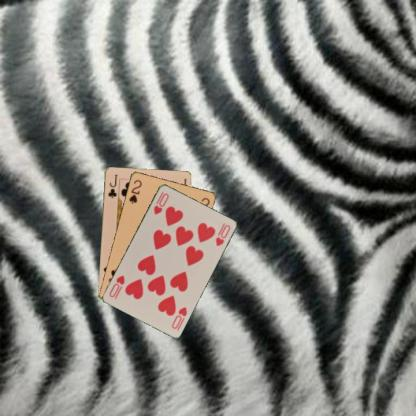10h: (151, 190, 170, 216), (169, 304, 188, 330)
2s: (127, 177, 142, 204)
Jc: (105, 172, 119, 199)
